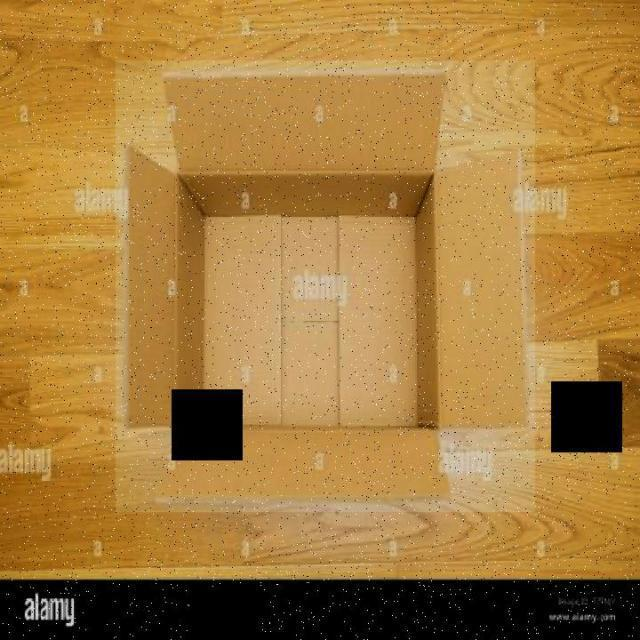box: (115, 60, 536, 512)
